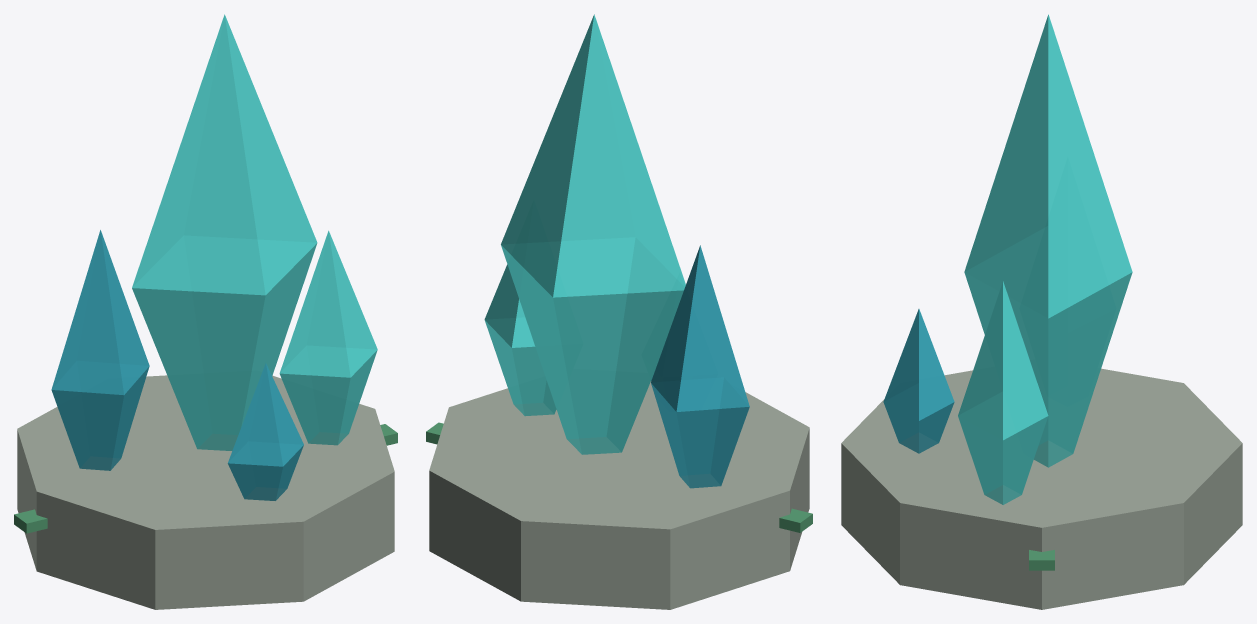
The model's file is cyan-crystal-cluster.low.glb.
The picture shows the model from 3 angles, left to right: view 1: azimuth 30°, elevation 25°; view 2: azimuth 150°, elevation 25°; view 3: azimuth 270°, elevation 25°; orthographic projection. The views are drawn at different scales.
Visible parts, largest first — view 1: crystal_cluster_stone_base, crystal_cluster_large, crystal_cluster_left, crystal_cluster_right, crystal_cluster_front, crystal_cluster_moss_leaf_3; view 2: crystal_cluster_stone_base, crystal_cluster_large, crystal_cluster_left, crystal_cluster_right, crystal_cluster_moss_leaf_3; view 3: crystal_cluster_stone_base, crystal_cluster_large, crystal_cluster_right, crystal_cluster_front.
Boxes of the visible parts, x1,y1,x2,y2 form: crystal_cluster_stone_base: [17, 375, 394, 609]; crystal_cluster_large: [132, 14, 317, 450]; crystal_cluster_left: [51, 230, 149, 470]; crystal_cluster_right: [279, 230, 377, 445]; crystal_cluster_front: [227, 363, 303, 500]; crystal_cluster_moss_leaf_3: [14, 509, 47, 533]; crystal_cluster_stone_base: [429, 381, 809, 609]; crystal_cluster_large: [501, 14, 685, 454]; crystal_cluster_left: [651, 245, 749, 488]; crystal_cluster_right: [484, 264, 556, 416]; crystal_cluster_moss_leaf_3: [779, 508, 812, 532]; crystal_cluster_stone_base: [841, 368, 1242, 609]; crystal_cluster_large: [964, 14, 1132, 467]; crystal_cluster_right: [958, 281, 1048, 504]; crystal_cluster_front: [883, 309, 954, 453].
Bounding box in the file's own units: 1.36 × 1.78 × 1.24.
